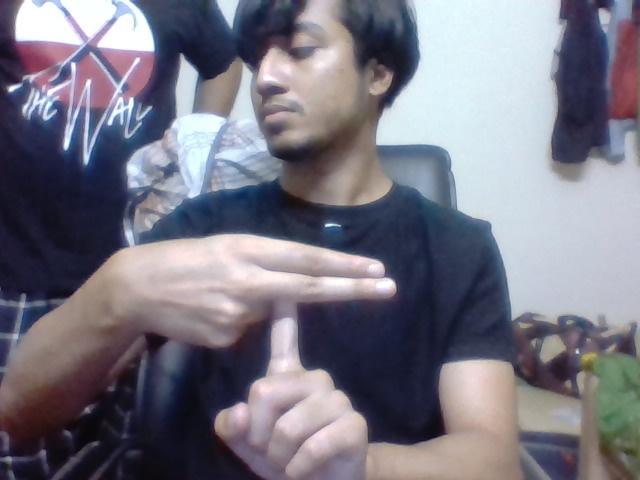F: (265, 234, 402, 365)
